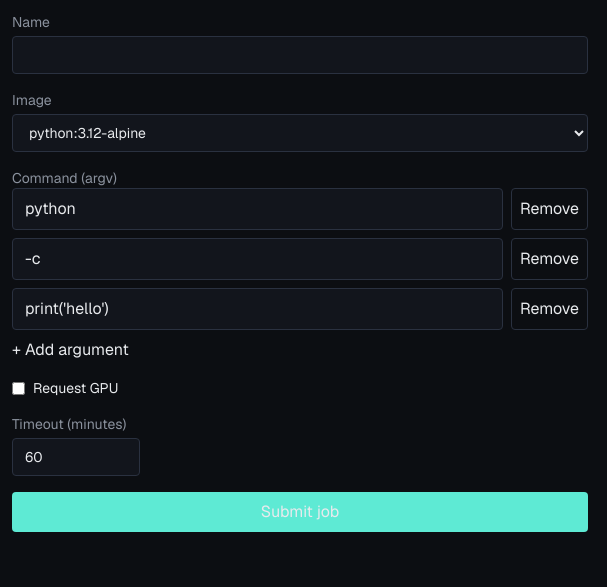
it: JobForm › blocks submit when name is empty
Clear the field with test id "job-name" at (300, 55), box [12,36,588,74]
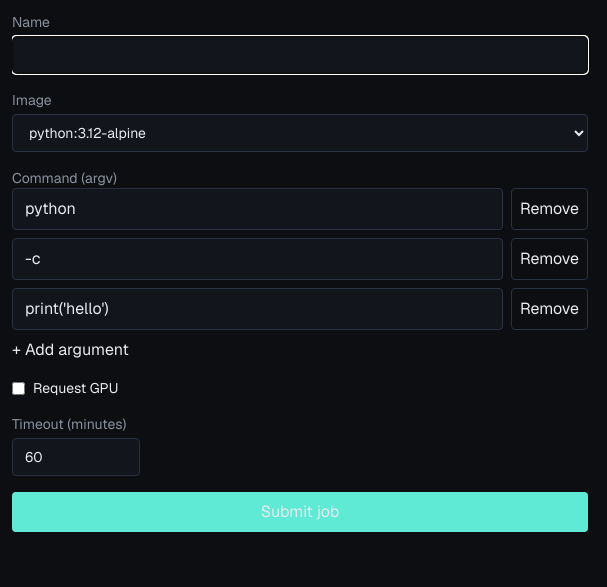
Click the button with test id "job-submit" at (300, 512), box [12,492,588,532]
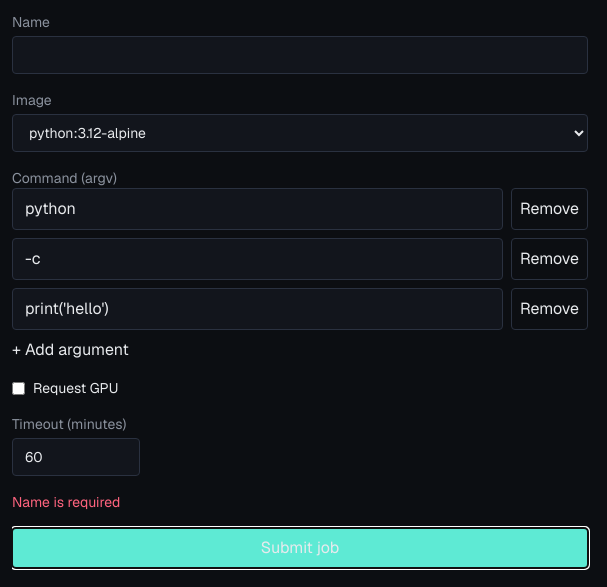
Now the message with test id "job-form-error" reads "Name is required", box [12,493,120,511]
